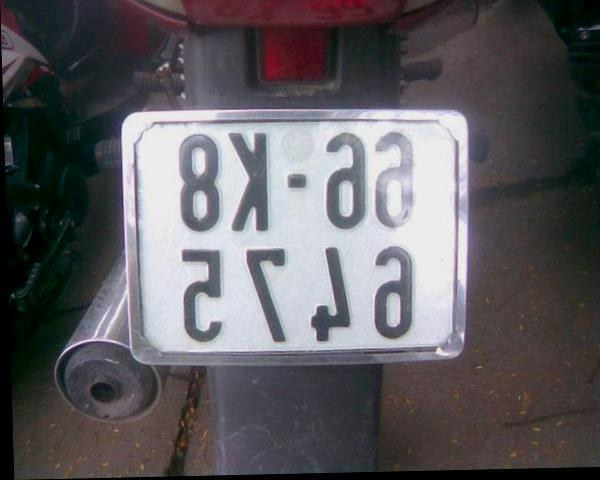License_Plate: (127, 111, 464, 357)
